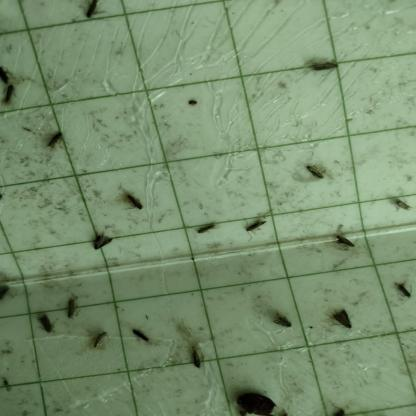prays_oleae: (327, 294, 360, 341), (35, 120, 65, 162), (243, 207, 273, 248), (303, 48, 339, 82), (186, 333, 210, 379), (191, 204, 217, 246), (332, 226, 359, 263), (124, 185, 146, 230), (303, 154, 329, 190), (271, 305, 297, 340), (394, 272, 416, 313), (34, 308, 57, 344), (392, 191, 415, 223), (90, 222, 111, 257), (92, 320, 110, 358), (134, 318, 154, 352), (0, 271, 15, 314), (65, 291, 80, 327), (82, 0, 101, 24), (5, 84, 21, 110), (0, 59, 13, 83)
